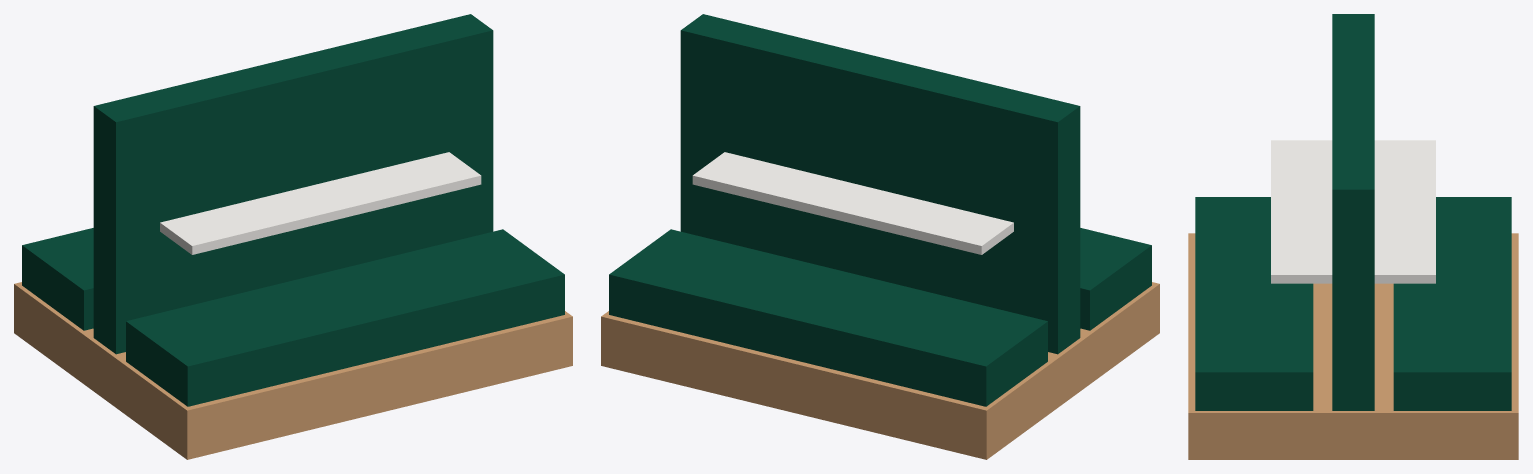
Rendered from ShiftSync_Booth_Sofa.glb.
The picture shows the model from 3 angles, left to right: view 1: azimuth 30°, elevation 25°; view 2: azimuth 150°, elevation 25°; view 3: azimuth 270°, elevation 25°; orthographic projection. The views are drawn at different scales.
Parts seen in each view (by area): view 1: Booth_Divider_Backrest, Booth_Seat_South, Booth_Plinth, Booth_Table_Top, Booth_Seat_North; view 2: Booth_Divider_Backrest, Booth_Seat_North, Booth_Plinth, Booth_Table_Top, Booth_Seat_South; view 3: Booth_Plinth, Booth_Seat_North, Booth_Seat_South, Booth_Table_Top, Booth_Divider_Backrest.
Boxes of the visible parts, x1,y1,x2,y2 form: Booth_Divider_Backrest: [93, 14, 493, 354]; Booth_Seat_South: [126, 229, 564, 406]; Booth_Plinth: [14, 282, 572, 459]; Booth_Table_Top: [160, 152, 481, 254]; Booth_Seat_North: [22, 228, 93, 330]; Booth_Divider_Backrest: [680, 14, 1080, 354]; Booth_Seat_North: [609, 229, 1047, 406]; Booth_Plinth: [601, 282, 1159, 459]; Booth_Table_Top: [692, 152, 1013, 254]; Booth_Seat_South: [1080, 228, 1151, 330]; Booth_Plinth: [1188, 233, 1518, 459]; Booth_Seat_North: [1393, 197, 1511, 410]; Booth_Seat_South: [1195, 197, 1313, 410]; Booth_Table_Top: [1271, 140, 1435, 283]; Booth_Divider_Backrest: [1332, 14, 1374, 410].
Bounding box in the file's own units: 1.8 × 1.25 × 1.4.
